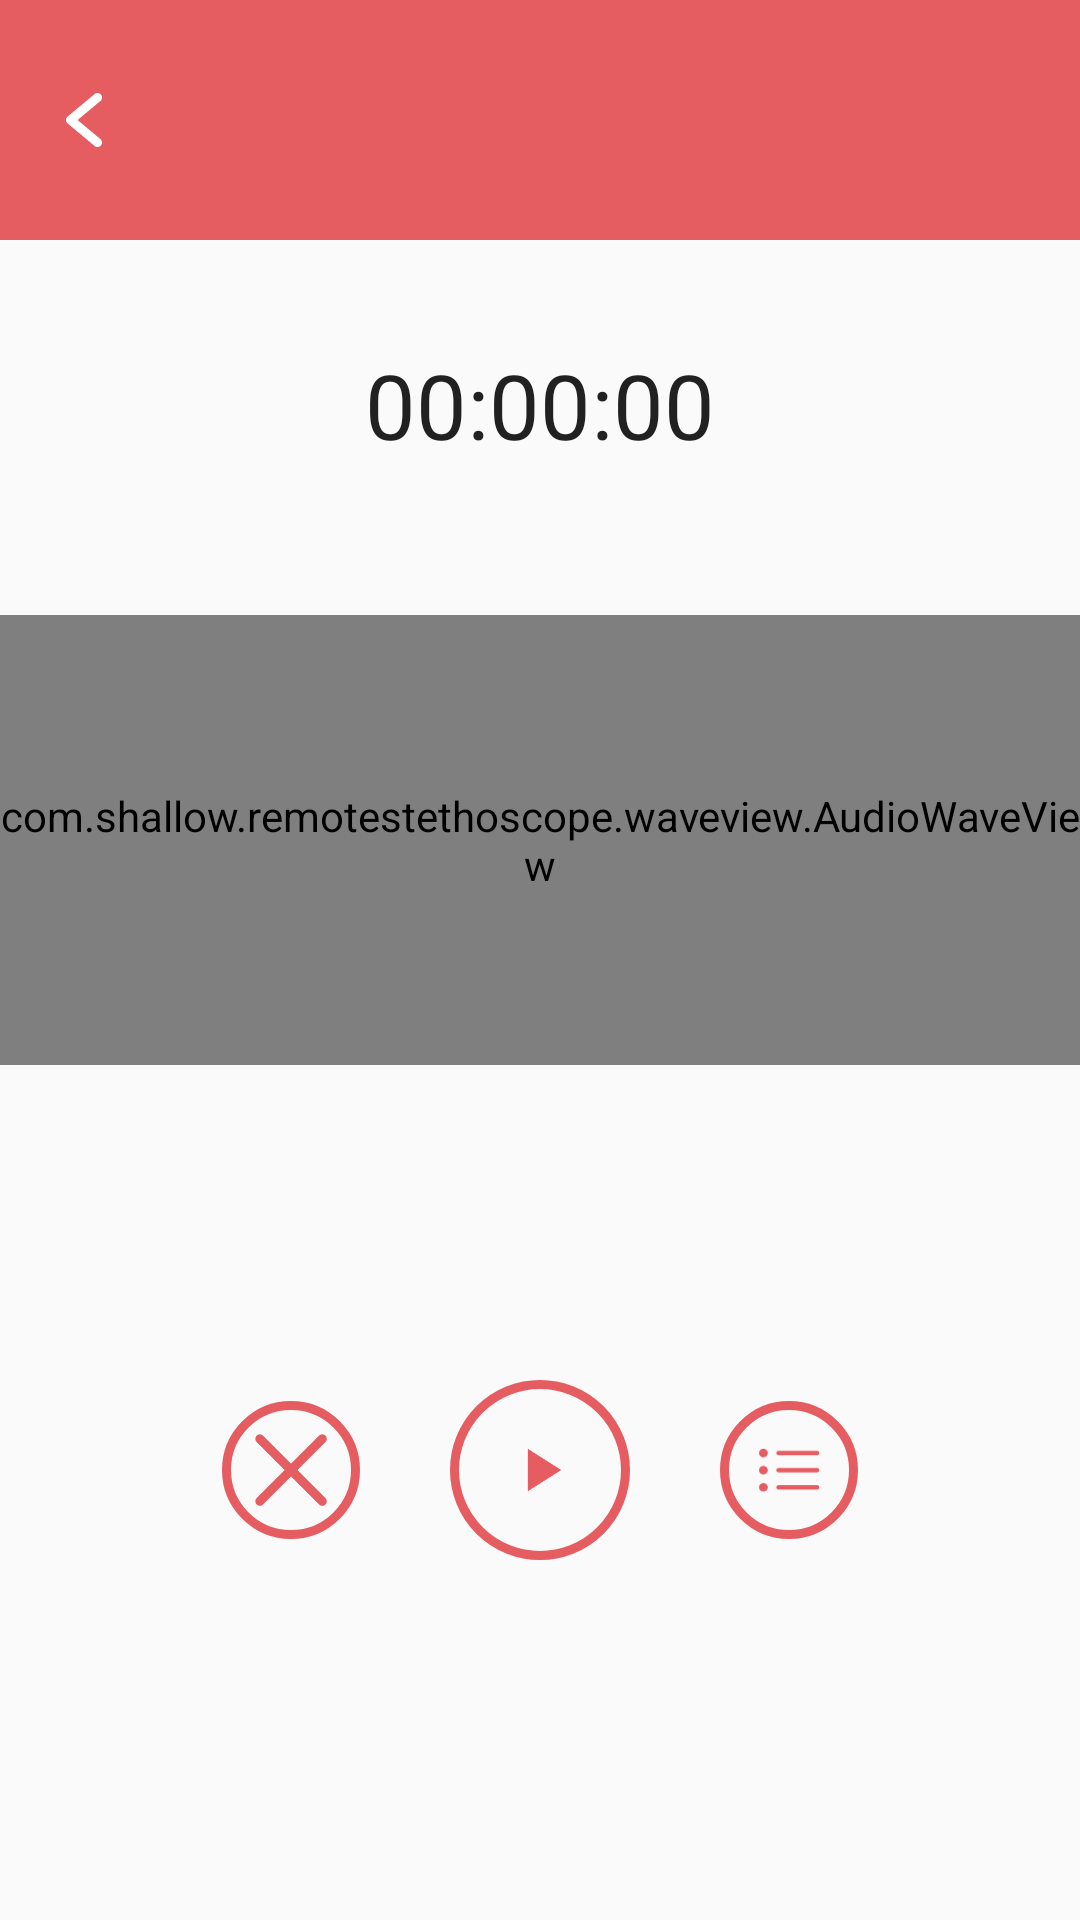

Icon bounding boxes for this 1080px×1920px phone screenshot, format [x1,y1,x2,y2]:
bullet list: [720,1401,858,1539]
cross: [222,1401,360,1539]
play arrow: [450,1380,630,1560]
